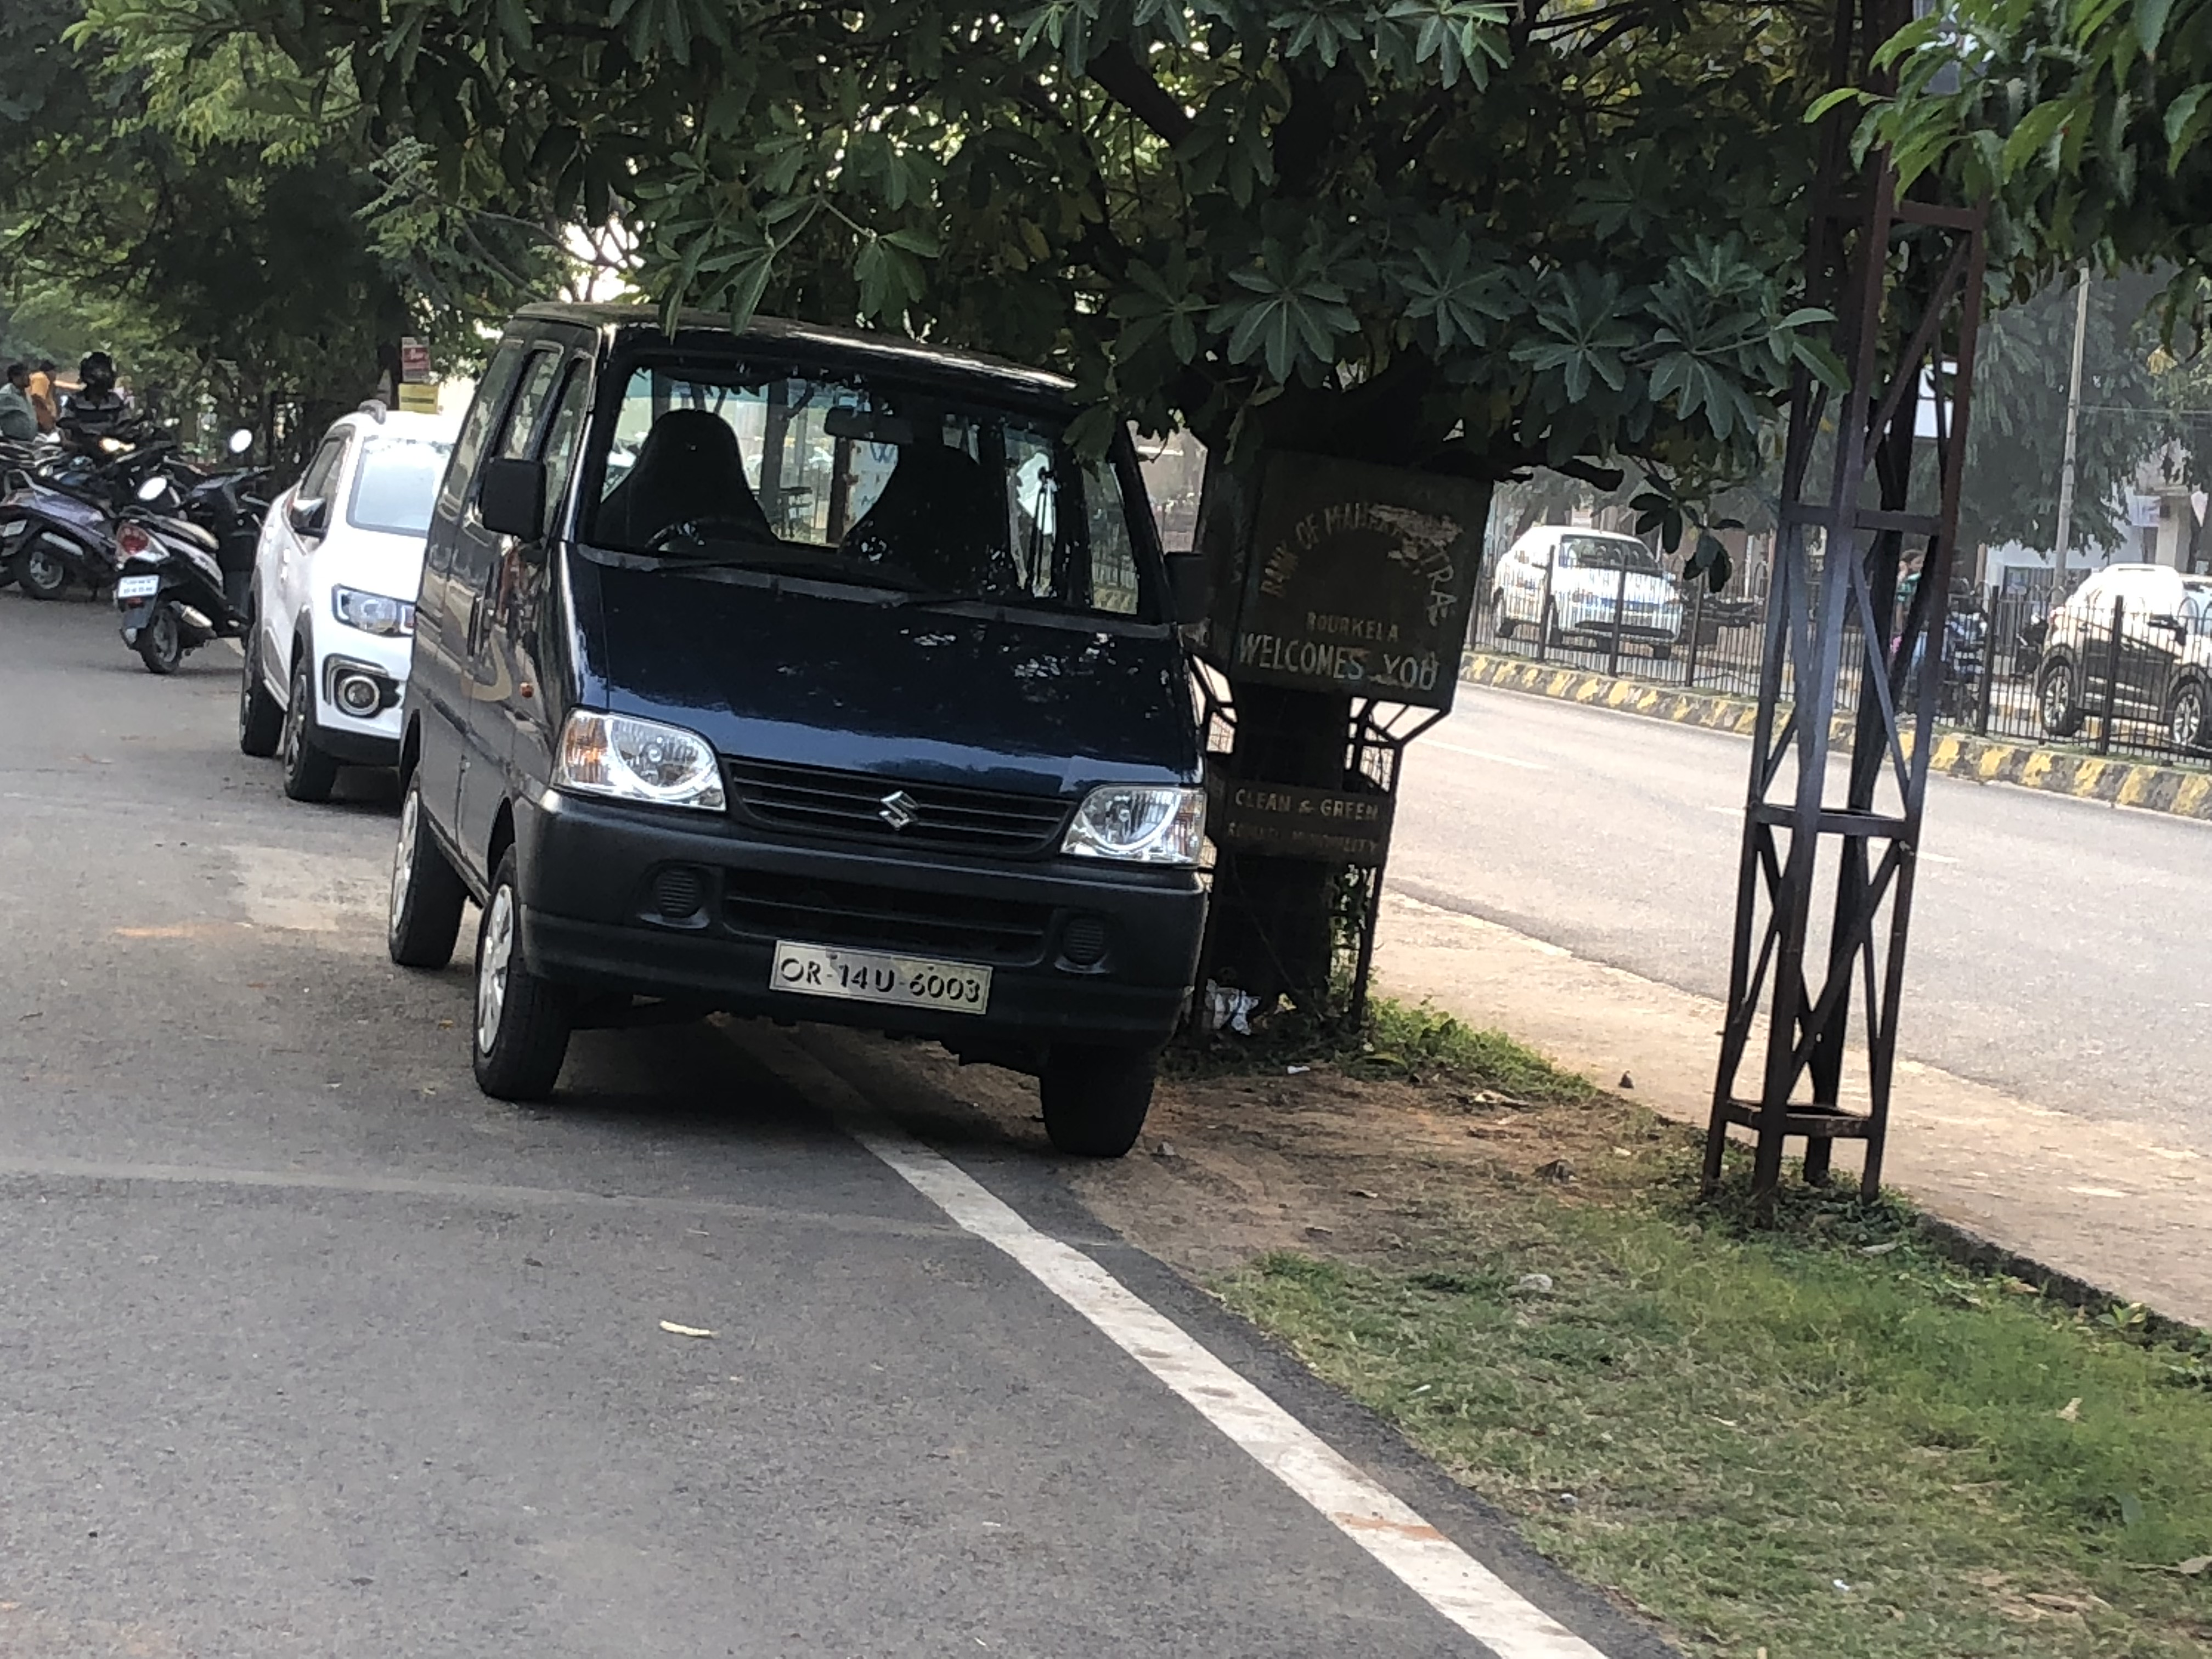licenseplate: (740, 927, 997, 1019)
